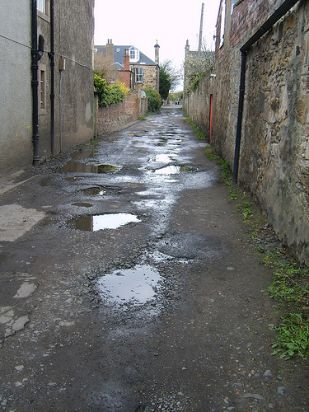pothole: (87, 255, 167, 313), (66, 208, 143, 231)
